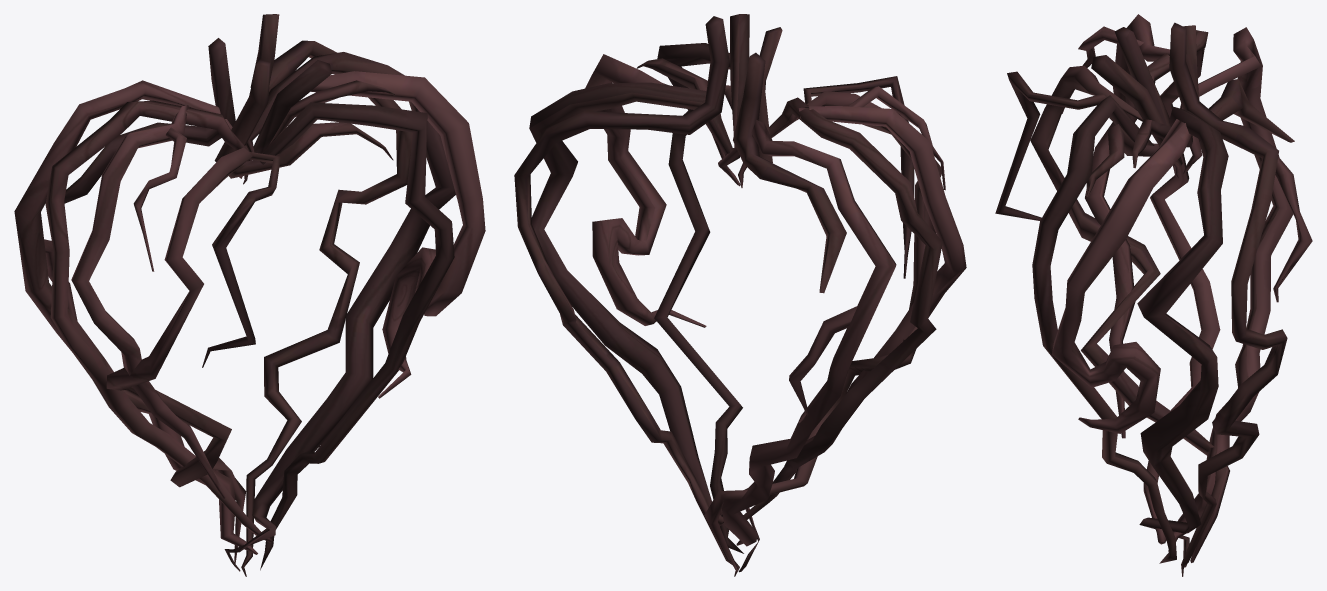
The model's file is prop_echo_loom.fbx.
3 views of the same model, side by side, from view 1: azimuth 30°, elevation 25°; view 2: azimuth 150°, elevation 25°; view 3: azimuth 270°, elevation 25° (orthographic). The views are drawn at different scales.
Parts seen in each view (by area): view 1: Telar del eco; view 2: Telar del eco; view 3: Telar del eco.
Part boxes in pixels (x1,y1,x2,y2): Telar del eco: (14,14,485,576); Telar del eco: (514,14,966,576); Telar del eco: (995,14,1312,576).
Bounding box in the file's own units: 144 × 190 × 97.23.
Materials: 1 (1 with a texture image).
